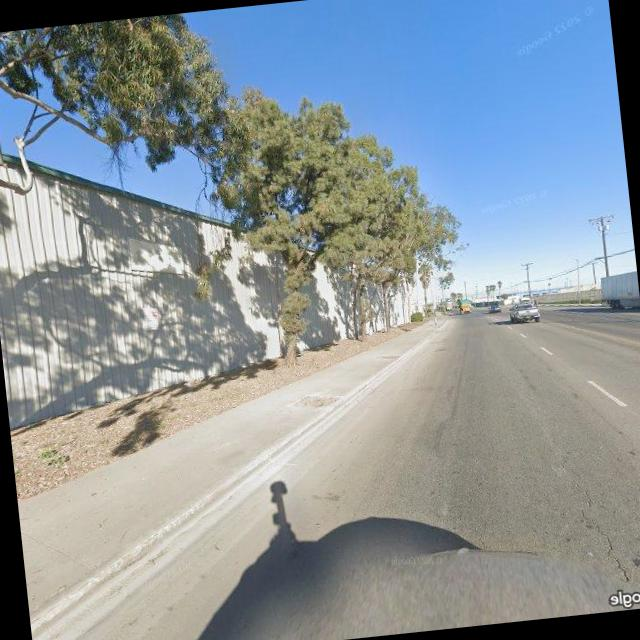pothole: (561, 443, 638, 597)
